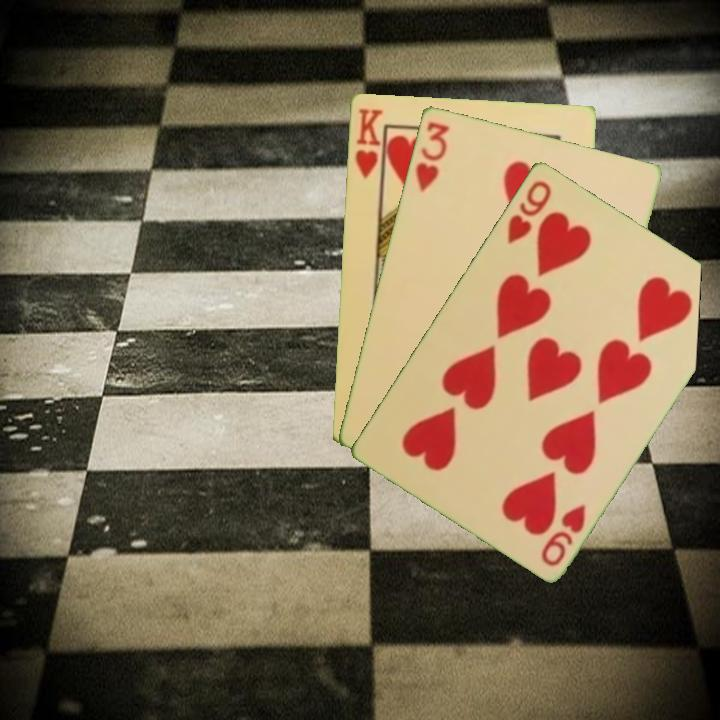3h: (411, 117, 452, 194)
9h: (503, 176, 555, 246), (537, 500, 589, 569)
Kh: (351, 104, 386, 188)
